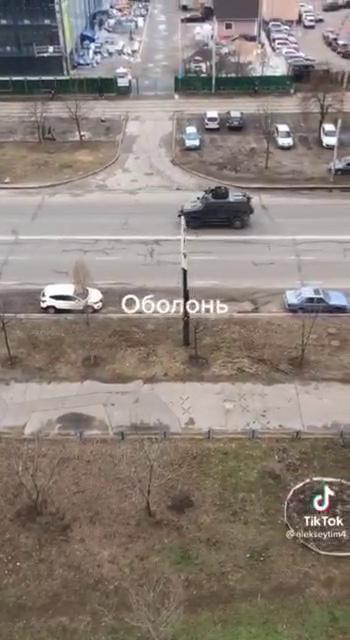armored_car: (178, 184, 256, 230)
car: (39, 284, 104, 314), (283, 287, 350, 313), (272, 124, 295, 149), (320, 123, 340, 149), (183, 126, 201, 150), (203, 111, 220, 129), (226, 110, 243, 128)
